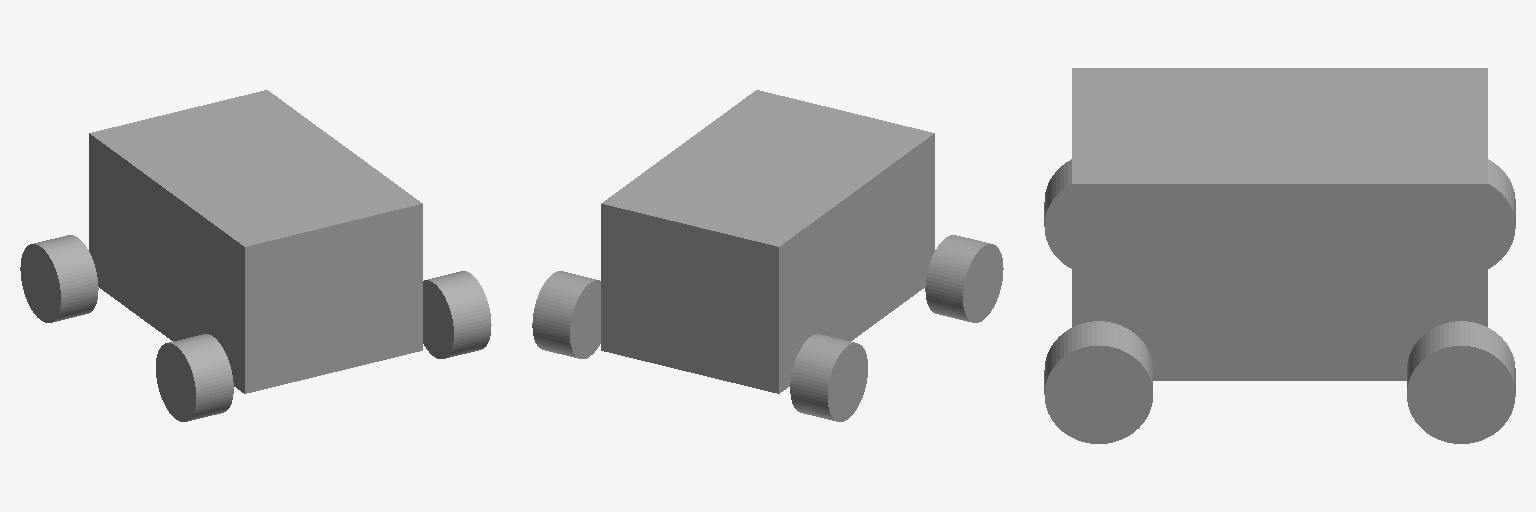
robot.urdf — simple_cuboid_4074g:
<?xml version="1.0" ?>
<robot name="simple_cuboid_4074g">

<material name="silver">
  <color rgba="0.700 0.700 0.700 1.000"/>
</material>

<link name="base_link">
  <inertial>
    <origin rpy="0 0 0" xyz="0.0 0.0 0.06000000000000001"/>
    <mass value="3.7505087999999995"/>
    <inertia ixx="0.021034103519999996" ixy="-5.684341886080802e-18" ixz="-2.842170943040401e-18" iyy="0.011721590169599987" iyz="0.0" izz="0.02375447256960001"/>
  </inertial>
  <visual>
    <origin rpy="0 0 0" xyz="0 0 0"/>
    <geometry>
      <mesh filename="meshes/base_link.stl" scale="0.001 0.001 0.001"/>
    </geometry>
    <material name="silver"/>
  </visual>
  <collision>
    <origin rpy="0 0 0" xyz="0 0 0"/>
    <geometry>
      <mesh filename="meshes/base_link.stl" scale="0.001 0.001 0.001"/>
    </geometry>
  </collision>
</link>

<link name="BL1">
  <inertial>
    <origin rpy="0 0 0" xyz="-0.016000000000000014 1.3877787807814457e-17 -6.938893903907228e-18"/>
    <mass value="0.08088721437050712"/>
    <inertia ixx="3.639924646672778e-05" ixy="1.0842021724855044e-19" ixz="2.710505431213761e-20" iyy="2.5101998859646934e-05" iyz="1.3552527156068805e-20" izz="2.51019988596478e-05"/>
  </inertial>
  <visual>
    <origin rpy="0 0 0" xyz="0.094 -0.1 -0.015"/>
    <geometry>
      <mesh filename="meshes/BL1.stl" scale="0.001 0.001 0.001"/>
    </geometry>
    <material name="silver"/>
  </visual>
  <collision>
    <origin rpy="0 0 0" xyz="0.094 -0.1 -0.015"/>
    <geometry>
      <mesh filename="meshes/BL1.stl" scale="0.001 0.001 0.001"/>
    </geometry>
  </collision>
</link>

<link name="BR1">
  <inertial>
    <origin rpy="0 0 0" xyz="0.015999999999999986 1.3877787807814457e-17 -6.938893903907228e-18"/>
    <mass value="0.08088721437050712"/>
    <inertia ixx="3.639924646672778e-05" ixy="1.0842021724855044e-19" ixz="0.0" iyy="2.51019988596465e-05" iyz="1.3552527156068805e-20" izz="2.5101998859647584e-05"/>
  </inertial>
  <visual>
    <origin rpy="0 0 0" xyz="-0.094 -0.1 -0.015"/>
    <geometry>
      <mesh filename="meshes/BR1.stl" scale="0.001 0.001 0.001"/>
    </geometry>
    <material name="silver"/>
  </visual>
  <collision>
    <origin rpy="0 0 0" xyz="-0.094 -0.1 -0.015"/>
    <geometry>
      <mesh filename="meshes/BR1.stl" scale="0.001 0.001 0.001"/>
    </geometry>
  </collision>
</link>

<link name="FR1">
  <inertial>
    <origin rpy="0 0 0" xyz="0.015999999999999986 2.7755575615628914e-17 2.0816681711721685e-17"/>
    <mass value="0.08088721437050712"/>
    <inertia ixx="3.639924646672778e-05" ixy="0.0" ixz="2.710505431213761e-20" iyy="2.5101998859646283e-05" iyz="0.0" izz="2.51019988596478e-05"/>
  </inertial>
  <visual>
    <origin rpy="0 0 0" xyz="-0.094 0.1 -0.015"/>
    <geometry>
      <mesh filename="meshes/FR1.stl" scale="0.001 0.001 0.001"/>
    </geometry>
    <material name="silver"/>
  </visual>
  <collision>
    <origin rpy="0 0 0" xyz="-0.094 0.1 -0.015"/>
    <geometry>
      <mesh filename="meshes/FR1.stl" scale="0.001 0.001 0.001"/>
    </geometry>
  </collision>
</link>

<link name="FL1">
  <inertial>
    <origin rpy="0 0 0" xyz="-0.016000000000000014 2.7755575615628914e-17 1.9081958235744878e-17"/>
    <mass value="0.08088721437050712"/>
    <inertia ixx="3.639924646672778e-05" ixy="0.0" ixz="0.0" iyy="2.5101998859646717e-05" iyz="0.0" izz="2.51019988596478e-05"/>
  </inertial>
  <visual>
    <origin rpy="0 0 0" xyz="0.094 0.1 -0.015"/>
    <geometry>
      <mesh filename="meshes/FL1.stl" scale="0.001 0.001 0.001"/>
    </geometry>
    <material name="silver"/>
  </visual>
  <collision>
    <origin rpy="0 0 0" xyz="0.094 0.1 -0.015"/>
    <geometry>
      <mesh filename="meshes/FL1.stl" scale="0.001 0.001 0.001"/>
    </geometry>
  </collision>
</link>

<joint name="BL" type="continuous">
  <origin rpy="0 0 0" xyz="-0.094 0.1 0.015"/>
  <parent link="base_link"/>
  <child link="BL1"/>
  <axis xyz="-1.0 0.0 0.0"/>
</joint>
<transmission name="BL_tran">
  <type>transmission_interface/SimpleTransmission</type>
  <joint name="BL">
    <hardwareInterface>PositionJointInterface</hardwareInterface>
  </joint>
  <actuator name="BL_actr">
    <hardwareInterface>PositionJointInterface</hardwareInterface>
    <mechanicalReduction>1</mechanicalReduction>
  </actuator>
</transmission>

<joint name="BR" type="continuous">
  <origin rpy="0 0 0" xyz="0.094 0.1 0.015"/>
  <parent link="base_link"/>
  <child link="BR1"/>
  <axis xyz="-1.0 0.0 0.0"/>
</joint>
<transmission name="BR_tran">
  <type>transmission_interface/SimpleTransmission</type>
  <joint name="BR">
    <hardwareInterface>PositionJointInterface</hardwareInterface>
  </joint>
  <actuator name="BR_actr">
    <hardwareInterface>PositionJointInterface</hardwareInterface>
    <mechanicalReduction>1</mechanicalReduction>
  </actuator>
</transmission>

<joint name="FR" type="continuous">
  <origin rpy="0 0 0" xyz="0.094 -0.1 0.015"/>
  <parent link="base_link"/>
  <child link="FR1"/>
  <axis xyz="-1.0 0.0 0.0"/>
</joint>
<transmission name="FR_tran">
  <type>transmission_interface/SimpleTransmission</type>
  <joint name="FR">
    <hardwareInterface>PositionJointInterface</hardwareInterface>
  </joint>
  <actuator name="FR_actr">
    <hardwareInterface>PositionJointInterface</hardwareInterface>
    <mechanicalReduction>1</mechanicalReduction>
  </actuator>
</transmission>

<joint name="FL" type="continuous">
  <origin rpy="0 0 0" xyz="-0.094 -0.1 0.015"/>
  <parent link="base_link"/>
  <child link="FL1"/>
  <axis xyz="-1.0 0.0 0.0"/>
</joint>
<transmission name="FL_tran">
  <type>transmission_interface/SimpleTransmission</type>
  <joint name="FL">
    <hardwareInterface>PositionJointInterface</hardwareInterface>
  </joint>
  <actuator name="FL_actr">
    <hardwareInterface>PositionJointInterface</hardwareInterface>
    <mechanicalReduction>1</mechanicalReduction>
  </actuator>
</transmission>

</robot>

--- What the picture shows (computed from the rendered views, not written in the file) ---
3 views of the same robot in one strip: view 1: azimuth 30°, elevation 25°; view 2: azimuth 150°, elevation 25°; view 3: azimuth 270°, elevation 25° (orthographic).
Model simple_cuboid_4074g with 5 links and 4 joints (4 continuous), rooted at base_link, posed all joints at 0.
Links seen in each view (by area): view 1: base_link, FL1, BL1, FR1; view 2: base_link, BL1, FL1, BR1; view 3: base_link, BR1, FR1, BL1, FL1.
Boxes of the visible links, <box> form: base_link: <box>89,90,422,393</box>; FL1: <box>156,334,233,421</box>; BL1: <box>20,235,98,322</box>; FR1: <box>423,271,491,358</box>; base_link: <box>601,90,934,393</box>; BL1: <box>790,334,867,421</box>; FL1: <box>925,235,1003,322</box>; BR1: <box>532,271,600,358</box>; base_link: <box>1072,68,1487,380</box>; BR1: <box>1407,321,1515,443</box>; FR1: <box>1044,321,1152,443</box>; BL1: <box>1488,159,1515,268</box>; FL1: <box>1044,159,1071,268</box>.
Bounding box of the posed robot: 0.252 × 0.26 × 0.135 m (x, y, z).
Meshes: 5 distinct files referenced, 5 mesh visuals loaded (5 binary STL).